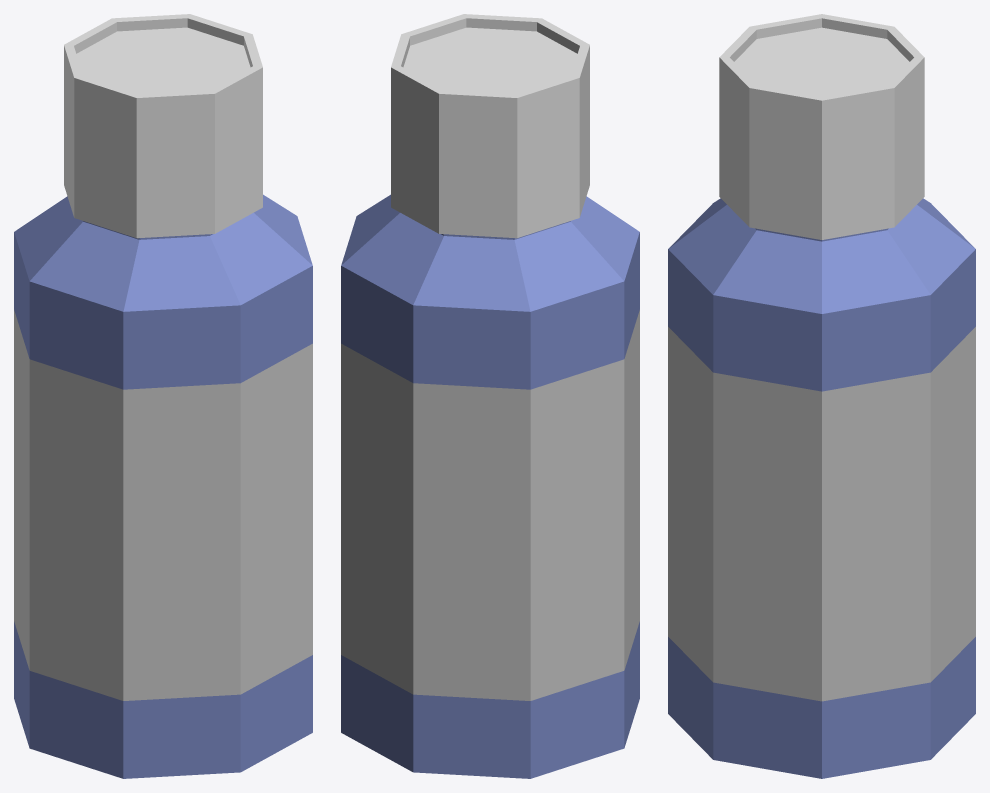
File: Pill Bottle.fbx
The picture shows the model from 3 angles, left to right: view 1: azimuth 30°, elevation 25°; view 2: azimuth 150°, elevation 25°; view 3: azimuth 270°, elevation 25°; orthographic projection.
Visible parts, largest first — view 1: Pill Bottle, Lid; view 2: Pill Bottle, Lid; view 3: Pill Bottle, Lid.
Boxes of the visible parts, x1,y1,x2,y2 form: Pill Bottle: (14, 194, 312, 778); Lid: (64, 14, 262, 238); Pill Bottle: (341, 194, 639, 778); Lid: (391, 14, 589, 238); Pill Bottle: (668, 198, 975, 778); Lid: (719, 14, 924, 239).
Bounding box in the file's own units: 48 × 113 × 48.
